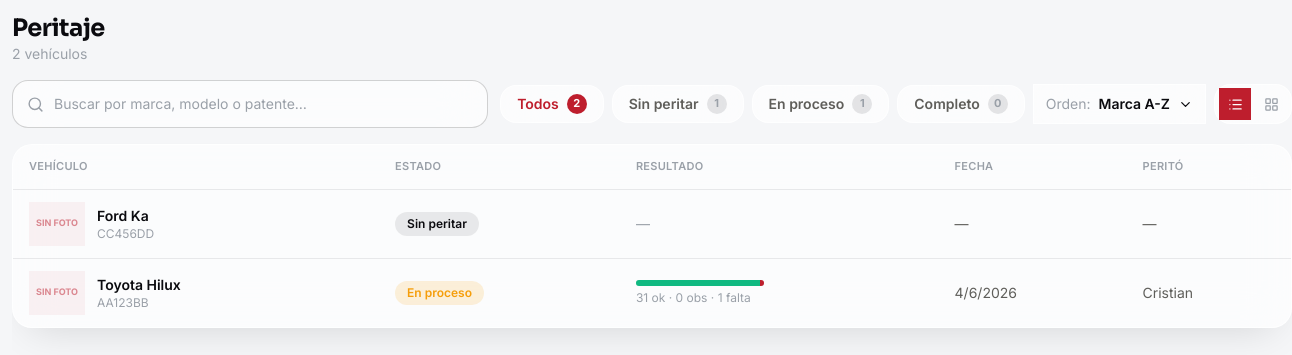
PeritajesListPage › filtrar por "Completo" (sin resultados) muestra el vacío
Click the button "Completo 0": (961, 104) [897,85,1025,123]
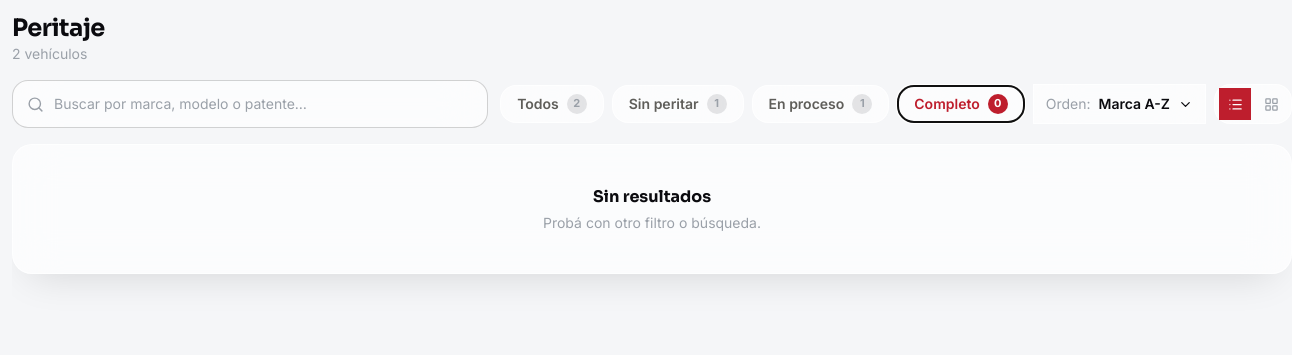
Now the text "Sin resultados" is shown, box [593,186,711,207]
Now the text "Toyota Hilux" is gone
